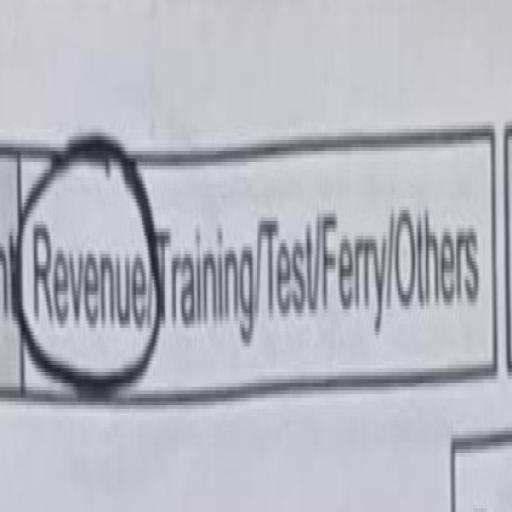check: (8, 96, 159, 449)
